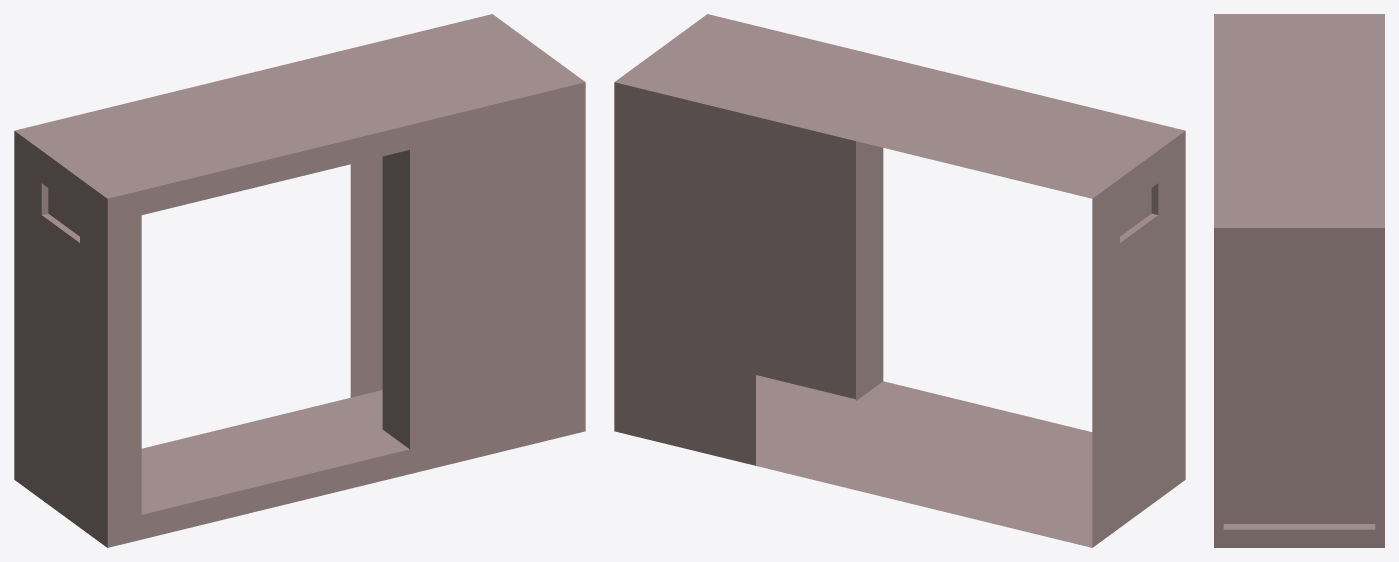
The model's file is ilmastointikanava testi.fbx.
The picture shows the model from 3 angles, left to right: view 1: azimuth 30°, elevation 25°; view 2: azimuth 150°, elevation 25°; view 3: azimuth 270°, elevation 25°; orthographic projection. The views are drawn at different scales.
Visible parts, largest first — view 1: Cube.002; view 2: Cube.002; view 3: Cube.002.
Boxes of the visible parts, box(x1,y1,x2,y2) form: Cube.002: box(14, 14, 585, 547); Cube.002: box(614, 14, 1185, 547); Cube.002: box(1214, 14, 1384, 547).
Size of the model in its own units: 165 by 115 by 55.66.
